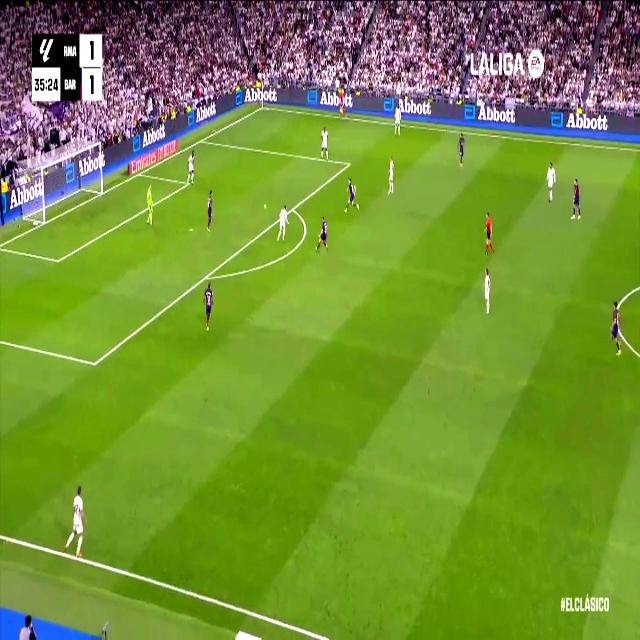bigarea_bottom_inner: (90, 352, 100, 374)
bigarea_top_inner: (346, 157, 352, 169)
bigarea_top_outter: (198, 133, 206, 146)
bottom_arc_area_intersection: (202, 268, 211, 284)
corner: (259, 102, 266, 112)
smallarea_bottom_inner: (54, 251, 62, 269)
smallarea_top_inner: (184, 177, 190, 187)
top_arc_area_intersection: (290, 200, 296, 214)
